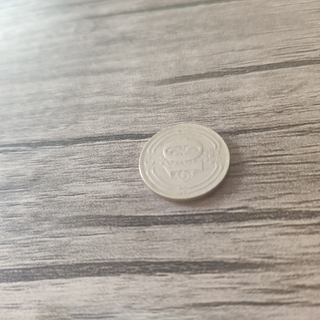10KURUS: (137, 121, 232, 204)
